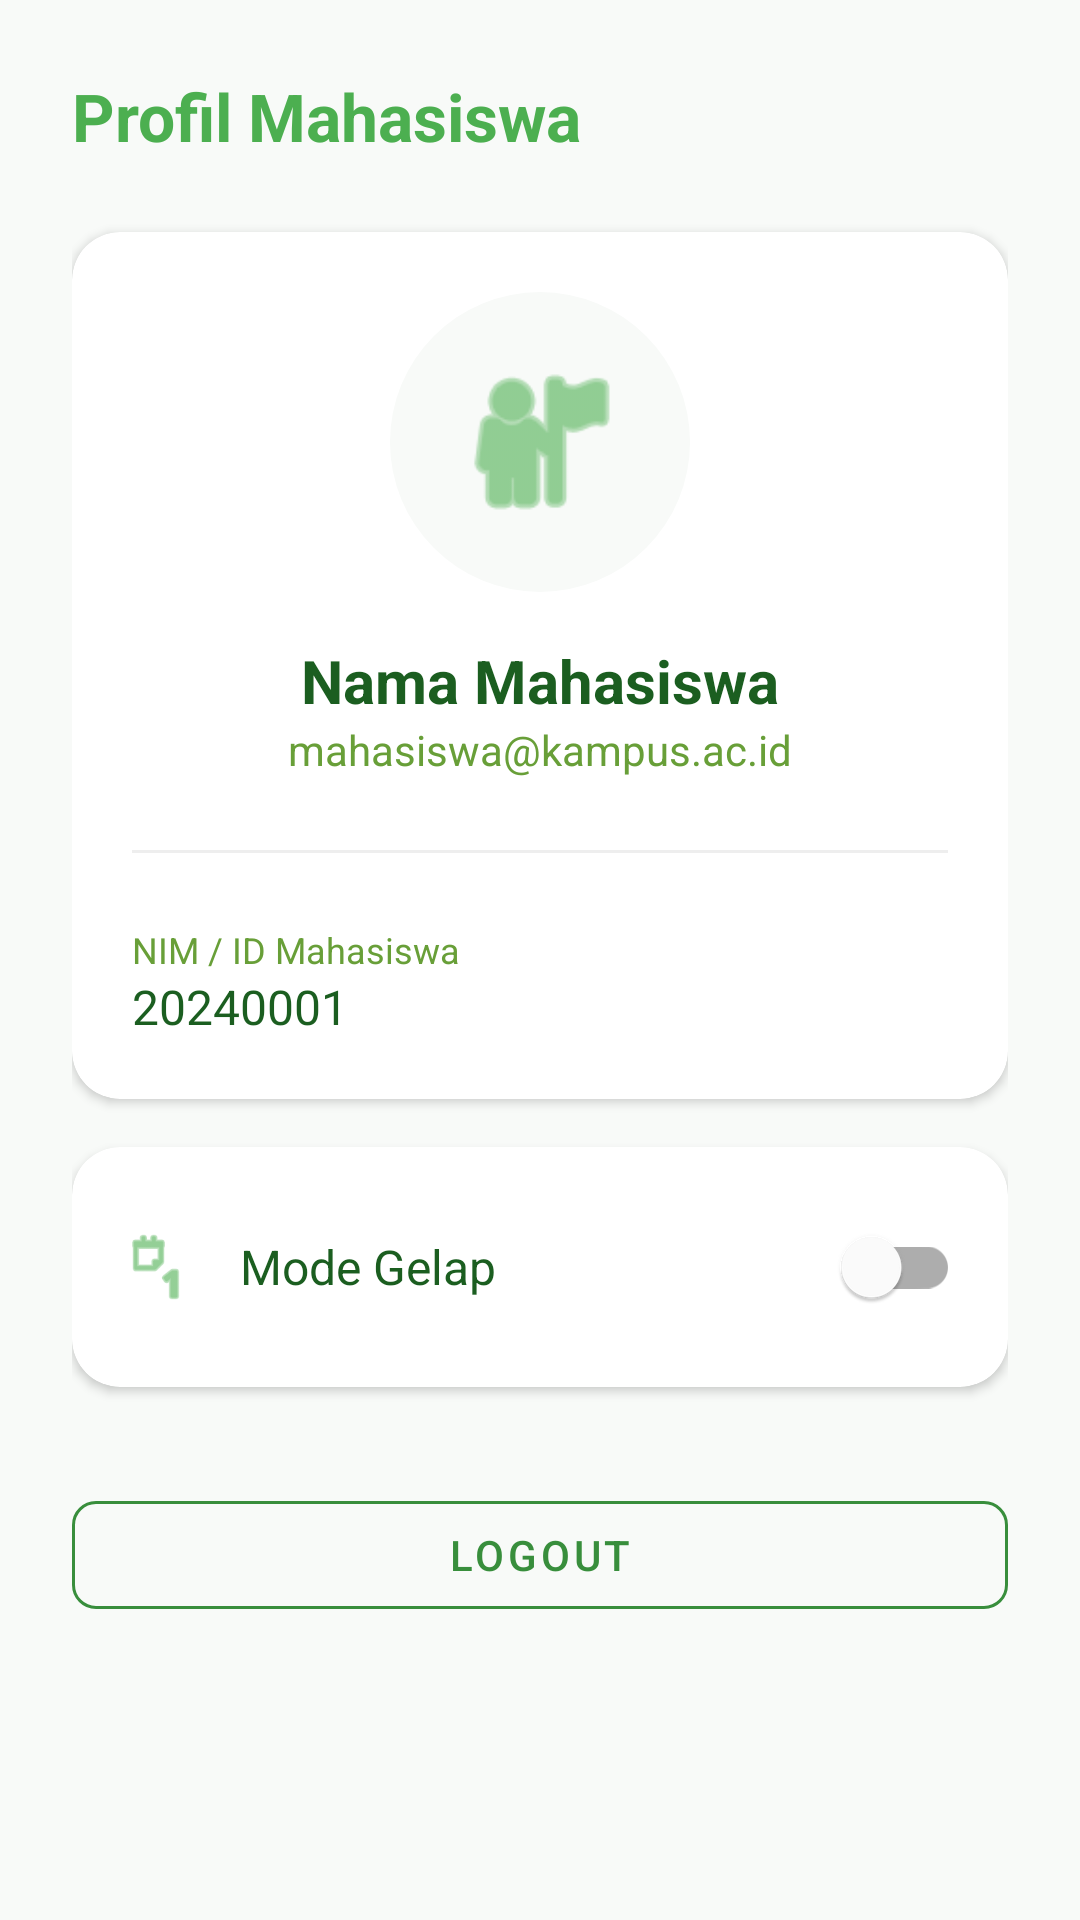

Screen size 1080×1920. Icon name, then its box in pixels as (x1, y1, x2, y2):
day: (132, 1235, 179, 1299)
Foto Profil: (474, 375, 610, 509)
